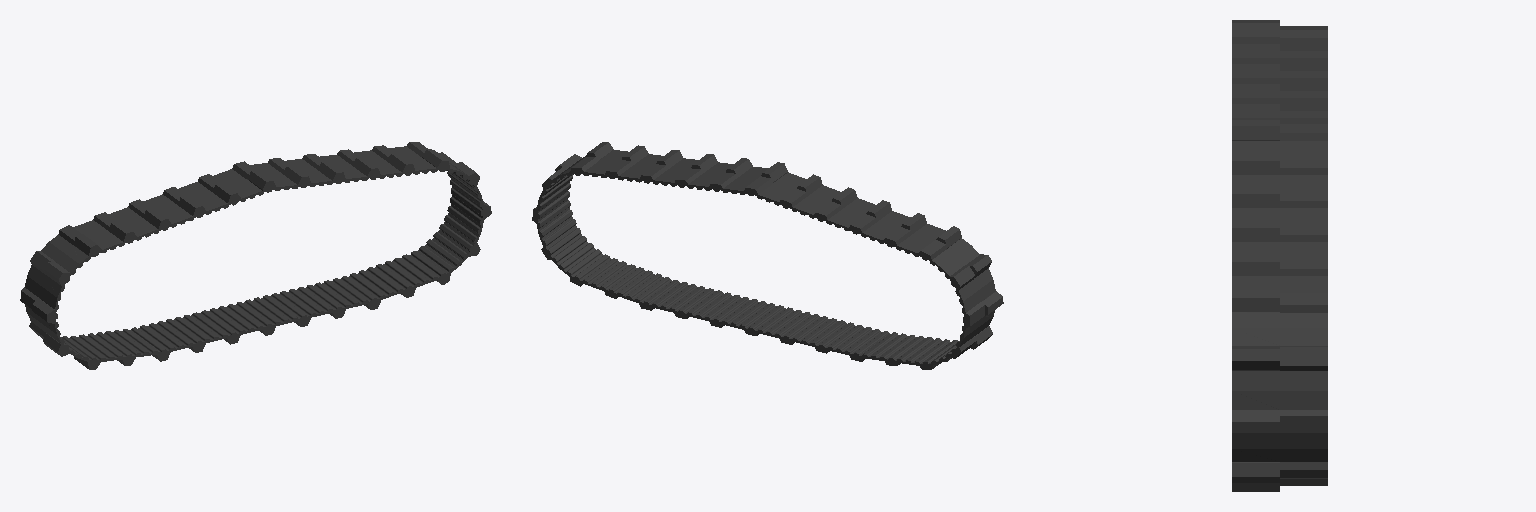
robot.urdf — robot:
<robot name="">
  <link name="root">
    <inertial>
      <mass value="0.0" />
      <origin xyz="0.0 0.0 0.0" rpy="0 -0 0" />
      <inertia ixx="0.0" ixy="0.0" ixz="0.0" iyy="0.0" iyz="0.0" izz="0.0" />
    </inertial>
    <visual>
      <origin xyz="0.0 0.0 0.0" rpy="0.0 -0.0 0.0" />
      <geometry>
        <mesh filename="-root-shape-0.dae" scale="1.0 1.0 1.0" />
      </geometry>
    </visual>
    <collision>
      <origin xyz="0.0 0.0 0.0" rpy="0.0 -0.0 0.0" />
      <geometry>
        <mesh filename="-root-shape-0.dae" scale="1.0 1.0 1.0" />
      </geometry>
    </collision>
  </link>
</robot>

--- Render facts (derived) ---
3 views of the same robot in one strip: view 1: azimuth 30°, elevation 25°; view 2: azimuth 150°, elevation 25°; view 3: azimuth 270°, elevation 25° (orthographic).
Model robot with 1 links and 0 joints (none), rooted at root, posed every joint at zero.
Links seen in each view (by area): view 1: root; view 2: root; view 3: root.
Link boxes in pixels (x1=…): root: x1=20, y1=142, x2=491, y2=369; root: x1=532, y1=142, x2=1003, y2=369; root: x1=1232, y1=20, x2=1327, y2=491.
Bounding box of the posed robot: 0.6445 × 0.0762 × 0.2135 m (x, y, z).
1 mesh visuals loaded from 1 distinct referenced files (1 Collada DAE).